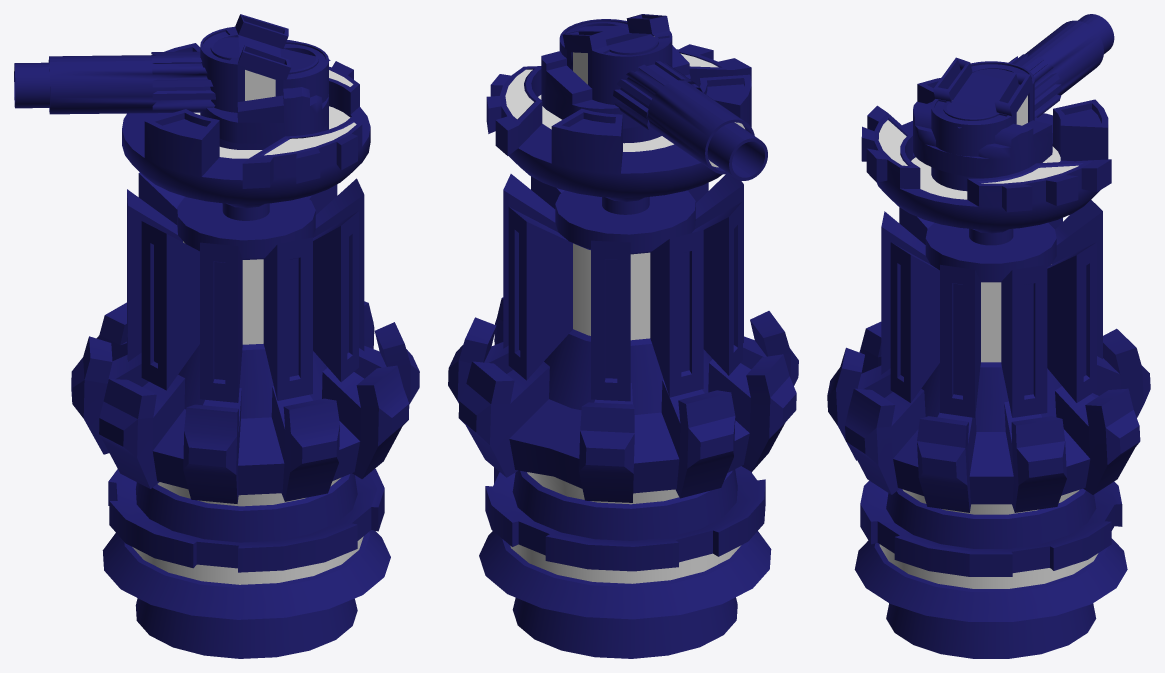
The model's file is HeavySimpleTower.fbx.
3 renders of one model, left to right at view 1: azimuth 30°, elevation 25°; view 2: azimuth 150°, elevation 25°; view 3: azimuth 270°, elevation 25°, orthographic. The views are drawn at different scales.
Visible parts, largest first — view 1: Base, Cannon; view 2: Base, Cannon; view 3: Base, Cannon.
Part boxes in pixels (x1=…): Base: x1=71, y1=172, x2=419, y2=658; Cannon: x1=14, y1=14, x2=370, y2=204; Base: x1=448, y1=174, x2=798, y2=658; Cannon: x1=486, y1=14, x2=767, y2=197; Base: x1=827, y1=200, x2=1150, y2=658; Cannon: x1=861, y1=14, x2=1114, y2=229.
Size of the model in its own units: 345 by 573 by 307.
